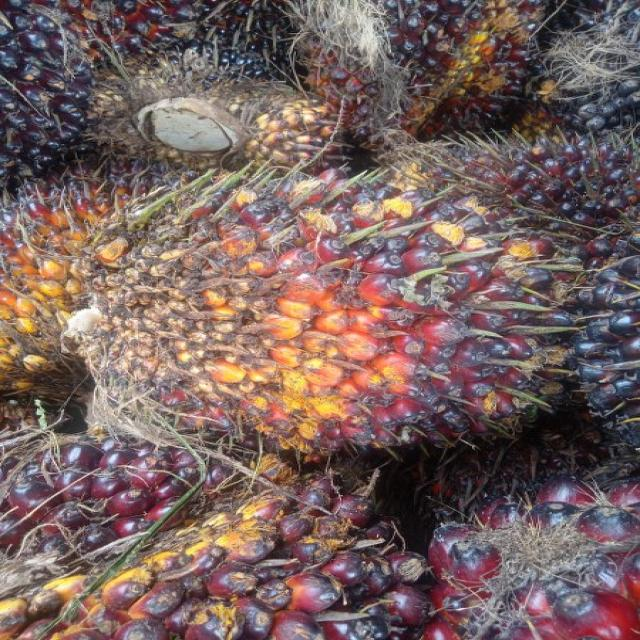fraksi 1: (38, 132, 586, 480)
